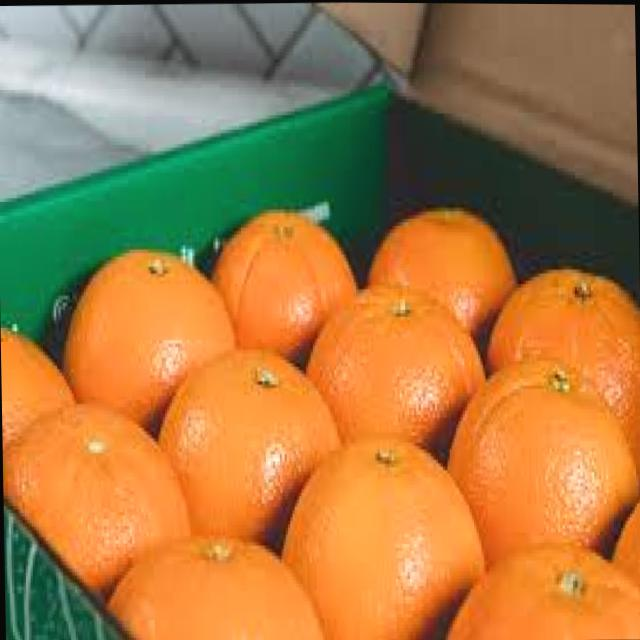orange: (280, 429, 482, 640), (448, 361, 638, 563), (158, 346, 340, 544), (2, 408, 184, 594), (62, 244, 235, 429), (487, 265, 640, 465), (306, 282, 484, 453), (108, 531, 326, 640), (212, 206, 356, 362), (365, 205, 514, 339), (444, 540, 640, 638)
